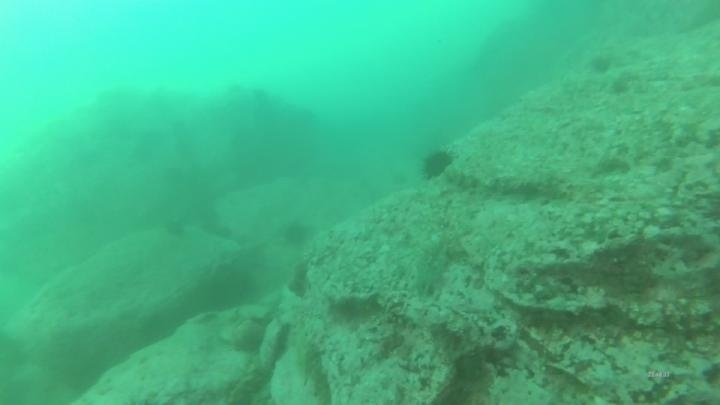echinus: (419, 146, 457, 182), (280, 218, 313, 249), (587, 52, 614, 77)
holothurian: (291, 332, 330, 405)
